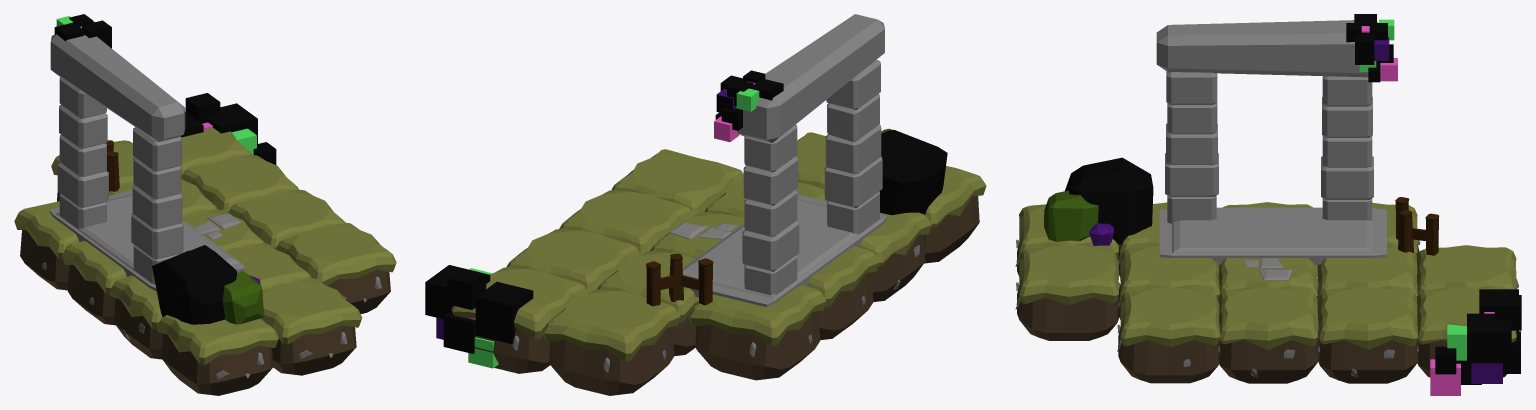
File: glitched-portal.fbx
The picture shows the model from 3 angles, left to right: view 1: azimuth 30°, elevation 25°; view 2: azimuth 150°, elevation 25°; view 3: azimuth 270°, elevation 25°; orthographic projection. The views are drawn at different scales.
Parts seen in each view (by area): view 1: Cube.002; view 2: Cube.002; view 3: Cube.002.
Part boxes in pixels (box(x1,y1,x2,y2)): Cube.002: box(14, 14, 396, 395); Cube.002: box(425, 14, 986, 395); Cube.002: box(1015, 14, 1521, 395).
Size of the model in its own units: 15.83 by 13.83 by 24.13.
